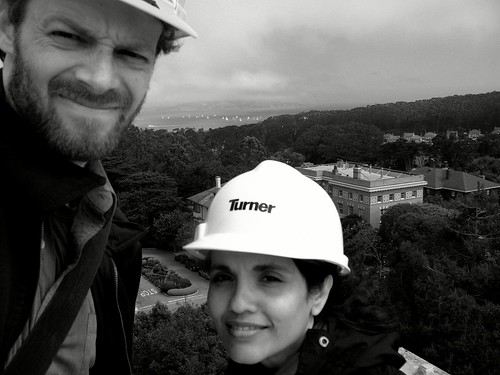person hardhat: (187, 152, 414, 375)
